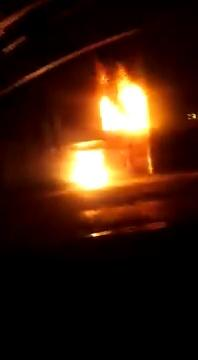fire: (98, 77, 154, 142), (64, 143, 115, 194)
